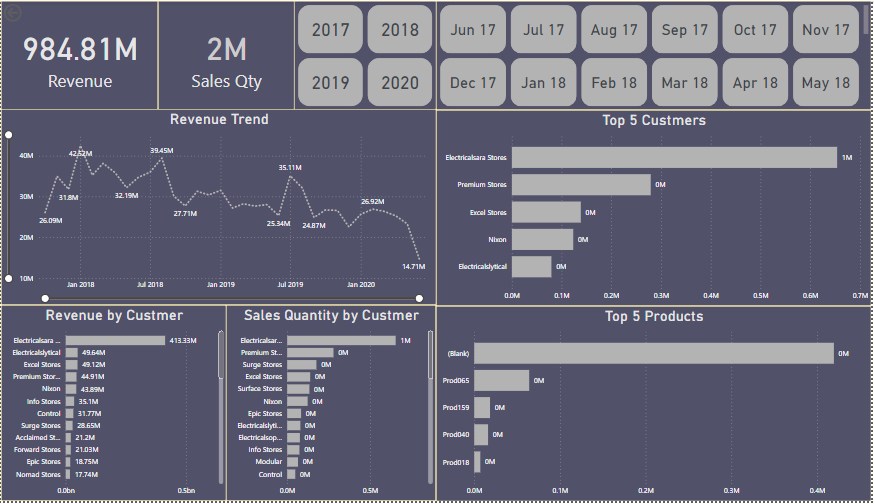

The page's visual inventory and layout, read from the dashboard file:
{"tool":"powerbi","page":{"name":"Page 1","canvas":[1480,850],"ordinal":0},"visuals":[{"type":"card","fields":{"Values":["BaseMeasures.Revenue"]},"box":[0,0,266.7,185],"z":0},{"type":"actionButton","box":[0,0,100,40],"z":1000},{"type":"card","fields":{"Values":["BaseMeasures.Sales Qty"]},"box":[266.7,0,231.7,185],"z":2000},{"type":"barChart","title":"Revenue by Custmer","fields":{"Y":["BaseMeasures.Revenue"],"Category":["sales customers.custmer_name"]},"box":[0,516.7,383.3,333.3],"z":3000},{"type":"barChart","title":"Sales Quantity by Custmer","fields":{"Y":["BaseMeasures.Sales Qty"],"Category":["sales customers.custmer_name"]},"box":[383.3,516.7,356.7,333.3],"z":4000},{"type":"advancedSlicerVisual","fields":{"Values":["sales date.year"]},"box":[498.3,0,241.7,185],"z":5000},{"type":"advancedSlicerVisual","fields":{"Values":["sales date.cy_date"]},"box":[739.5,0,741.2,185.3],"z":6000},{"type":"barChart","title":"Top 5 Custmers","fields":{"Y":["BaseMeasures.Sales Qty"],"Category":["sales customers.custmer_name"]},"box":[740,185,740,333.3],"z":7000},{"type":"barChart","title":"Top 5 Products","fields":{"Y":["BaseMeasures.Sales Qty"],"Category":["sales products.product_code"]},"box":[740,518.3,740,331.7],"z":8000},{"type":"lineChart","title":"Revenue Trend","fields":{"Category":["sales date.cy_date"],"Y":["BaseMeasures.Revenue"]},"box":[0,183.3,740,333.3],"z":9000}]}

Visuals, with their boxes in screenshot pixels (x1, y1, x2, y2), scaled from the page's 1480x850 canvas onto the 874x504 screenshot:
card - BaseMeasures.Revenue: [x1=0, y1=0, x2=157, y2=110]
actionButton: [x1=0, y1=0, x2=59, y2=24]
card - BaseMeasures.Sales Qty: [x1=157, y1=0, x2=294, y2=110]
"Revenue by Custmer" barChart: [x1=0, y1=306, x2=226, y2=503]
"Sales Quantity by Custmer" barChart: [x1=226, y1=306, x2=437, y2=503]
advancedSlicerVisual - sales date.year: [x1=294, y1=0, x2=437, y2=110]
advancedSlicerVisual - sales date.cy_date: [x1=437, y1=0, x2=873, y2=110]
"Top 5 Custmers" barChart: [x1=437, y1=110, x2=873, y2=307]
"Top 5 Products" barChart: [x1=437, y1=307, x2=873, y2=503]
"Revenue Trend" lineChart: [x1=0, y1=109, x2=437, y2=306]
